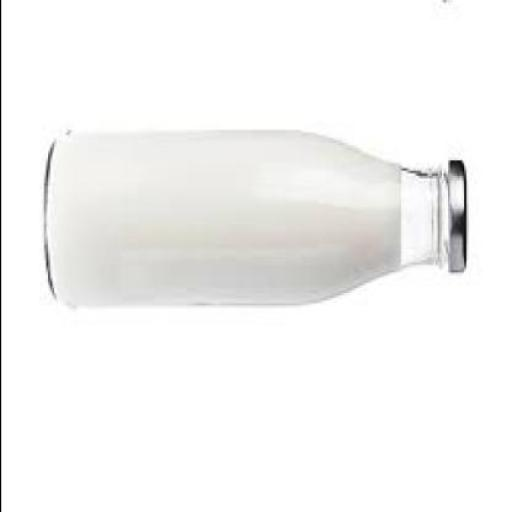glass: (45, 128, 451, 304)
metal: (449, 158, 467, 268)
